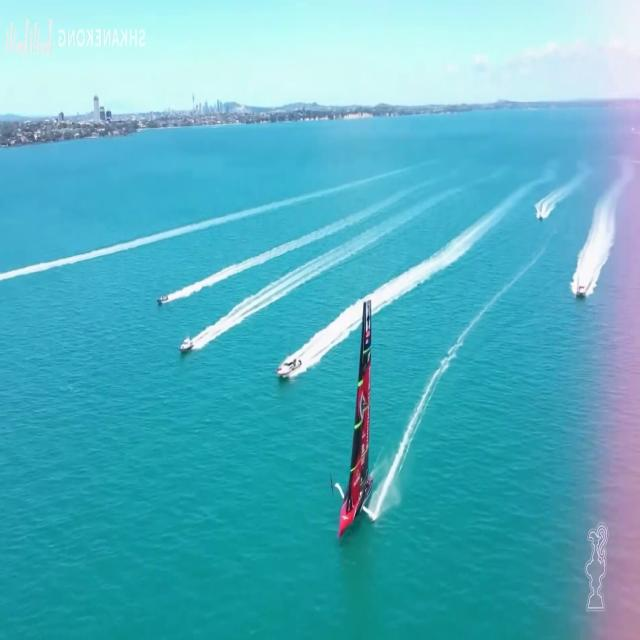houseboat: (276, 350, 300, 384), (576, 268, 588, 300), (176, 335, 195, 352), (155, 296, 168, 308), (538, 207, 544, 221)
sailboat: (330, 296, 380, 537)
